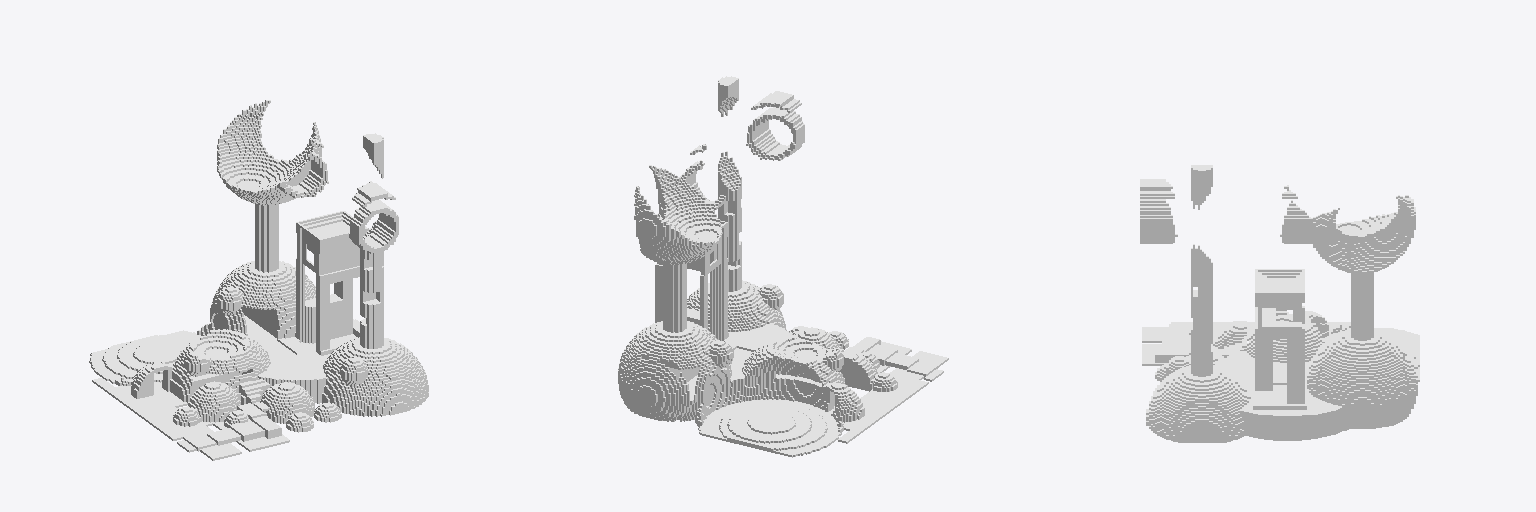
Rendered from MOON_LEVEL.obj.
3 renders of one model, left to right at view 1: azimuth 30°, elevation 25°; view 2: azimuth 150°, elevation 25°; view 3: azimuth 270°, elevation 25°, orthographic.
Size of the model in its own units: 126 by 126 by 126.